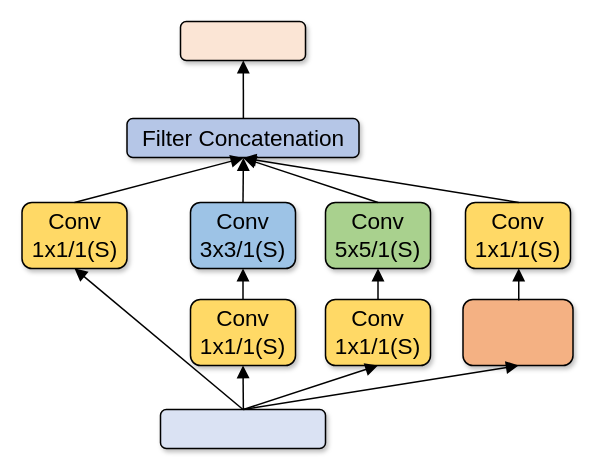
The diagram is 597 pixels wide and 474 high, and some of its shapes have lost their labels. The shapes that lost their labels are listed below. From the top down, each one's centre as x and y in pixels, then its label:
[243,42]: Next layer
[518,333]: MaxPool 3x3/1(S)
[243,430]: Previous layer
